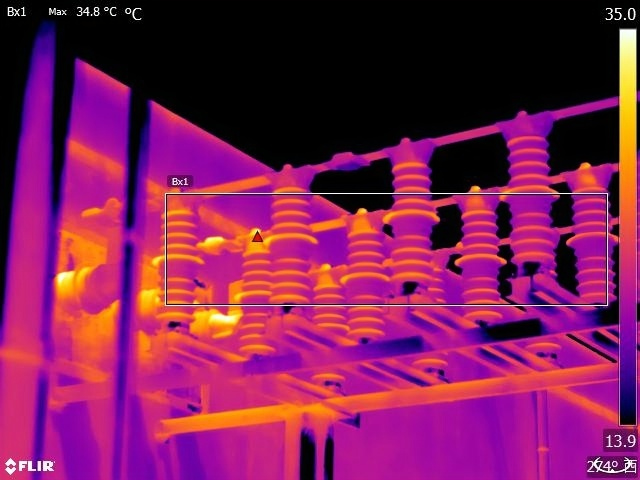post insulator: (501, 126, 561, 274), (151, 189, 210, 331), (267, 167, 322, 310), (390, 142, 439, 285), (568, 170, 619, 306), (454, 189, 504, 325), (338, 215, 387, 343), (237, 251, 277, 354), (308, 268, 349, 331)
tube: (53, 257, 131, 314)
